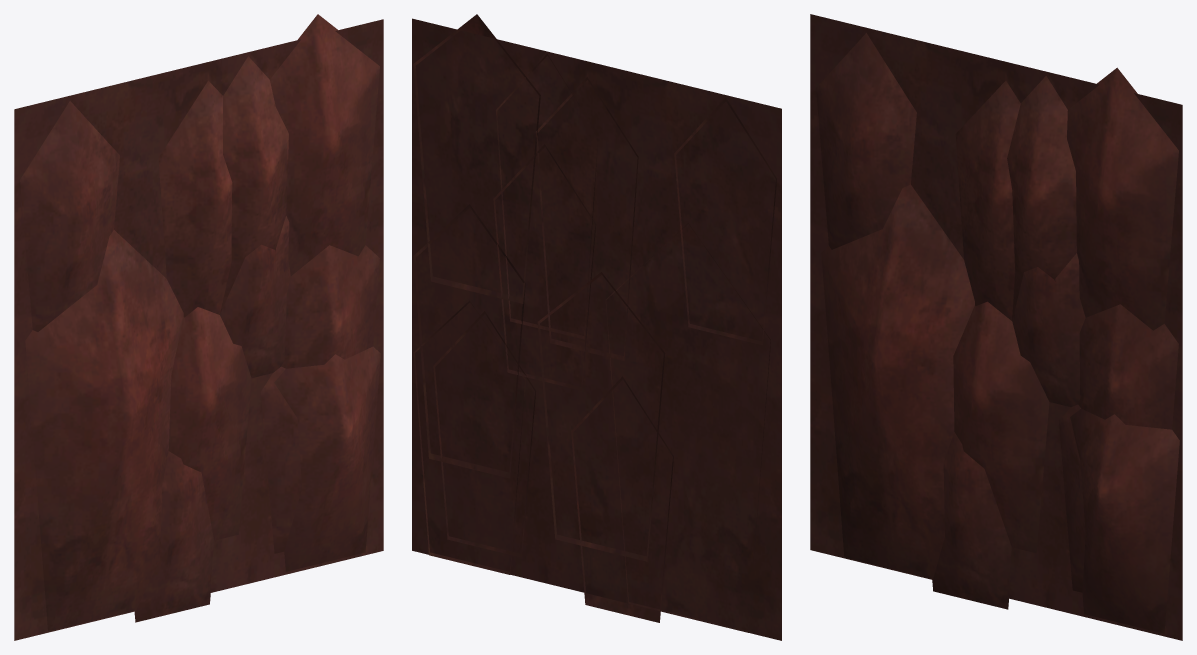
Rendered from lava_wall_straight_05.fbx.
3 views of the same model, side by side, from view 1: azimuth 30°, elevation 25°; view 2: azimuth 150°, elevation 25°; view 3: azimuth 330°, elevation 25° (orthographic).
Parts seen in each view (by area): view 1: lava_wall_straight_05-0; view 2: lava_wall_straight_05-0; view 3: lava_wall_straight_05-0.
Part boxes in pixels (bbox=[...]): lava_wall_straight_05-0: bbox=[14, 14, 383, 640]; lava_wall_straight_05-0: bbox=[412, 14, 781, 640]; lava_wall_straight_05-0: bbox=[810, 14, 1182, 640].
Size of the model in its own units: 4 by 5.83 by 0.5154.
